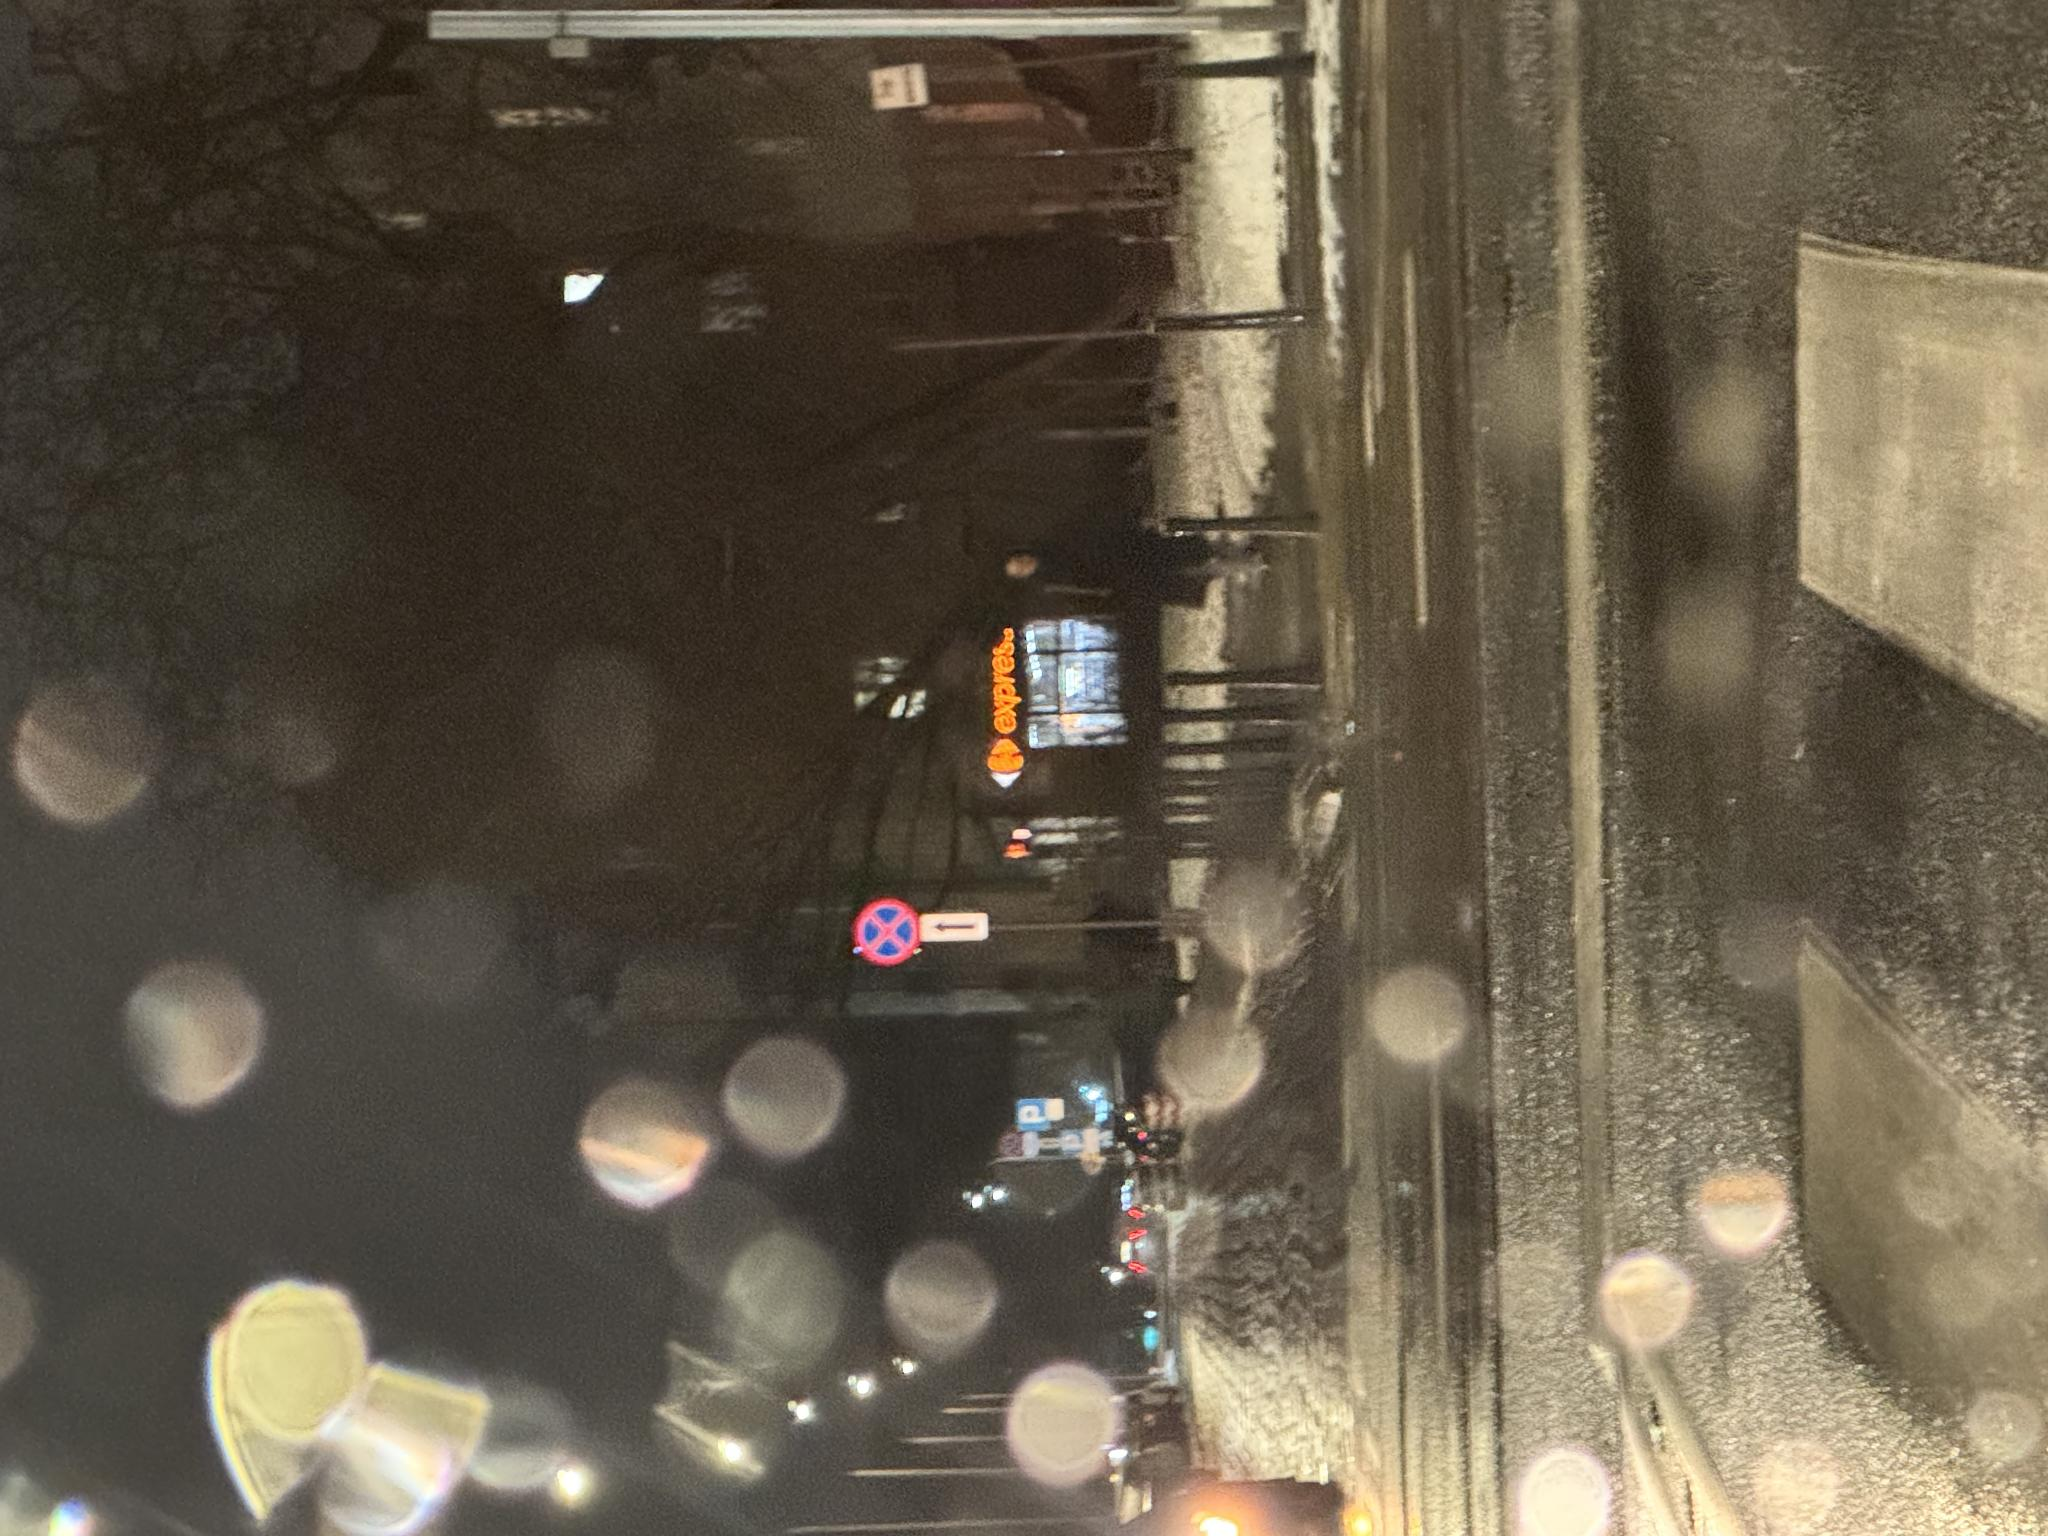information: (1426, 869, 1474, 927), (406, 1017, 438, 1048)
other: (594, 919, 626, 991)
prohibitory: (570, 854, 638, 920)
